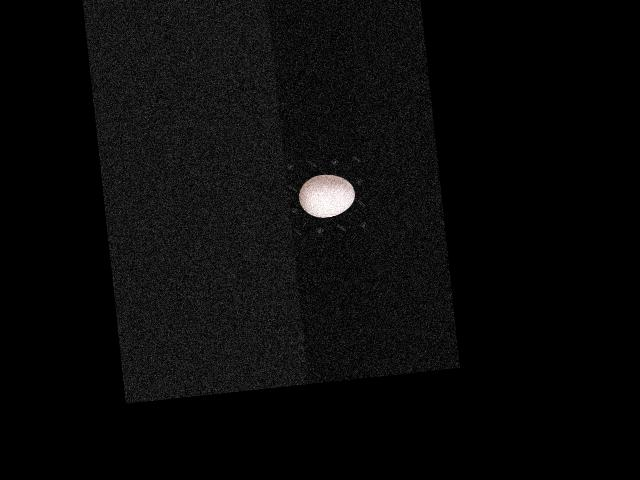egg: (297, 172, 356, 220)
